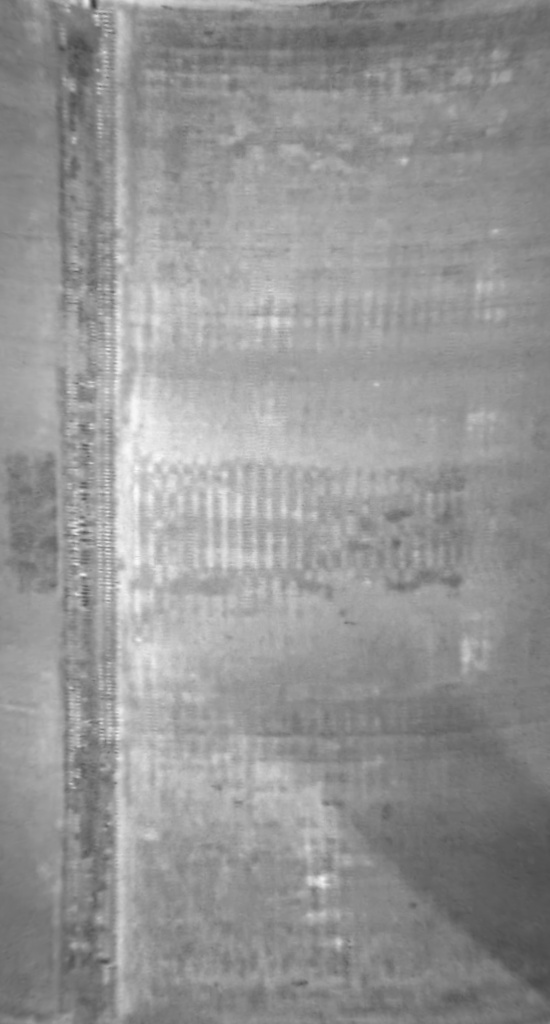splice: (35, 1, 138, 1024)
